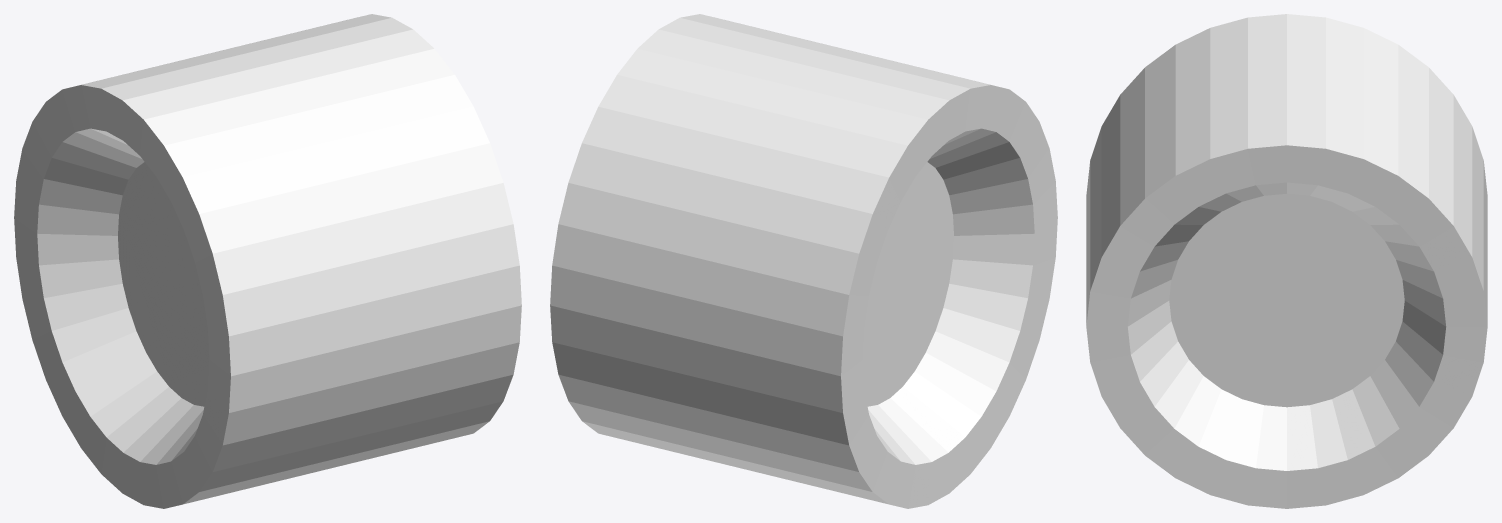
File: Tire.obj
3 renders of one model, left to right at view 1: azimuth 30°, elevation 25°; view 2: azimuth 150°, elevation 25°; view 3: azimuth 270°, elevation 25°, orthographic. The views are drawn at different scales.
Parts seen in each view (by area): view 1: Tire_円柱; view 2: Tire_円柱; view 3: Tire_円柱.
Part boxes in pixels (left/top/right/bottom): Tire_円柱: left=14, top=14, right=521, bottom=508; Tire_円柱: left=550, top=14, right=1057, bottom=508; Tire_円柱: left=1086, top=14, right=1487, bottom=508.
Size of the model in its own units: 1.55 by 2 by 2.
1 material, 1 textured.
